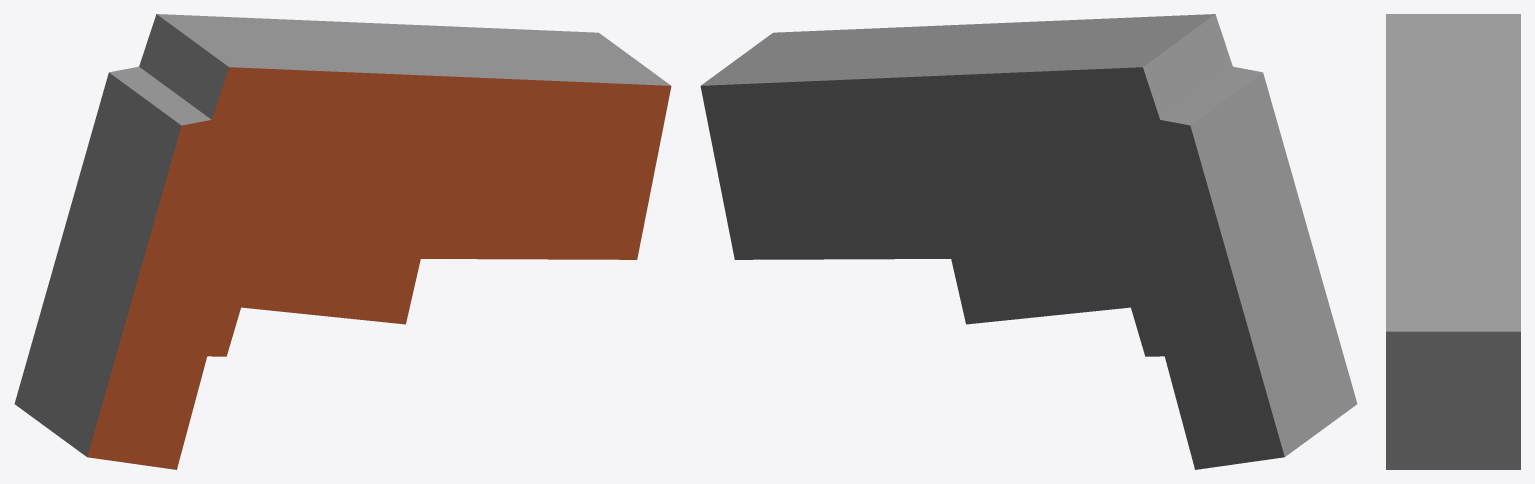
File: construction_4715_assumed_A_Casa_h6m.obj
3 views of the same model, side by side, from view 1: azimuth 30°, elevation 25°; view 2: azimuth 150°, elevation 25°; view 3: azimuth 270°, elevation 25° (orthographic). The views are drawn at different scales.
Parts seen in each view (by area): view 1: construction_4715_assumed_A_Casa; view 2: construction_4715_assumed_A_Casa; view 3: construction_4715_assumed_A_Casa.
Part boxes in pixels (left/top/right/bottom): construction_4715_assumed_A_Casa: left=14, top=14, right=671, bottom=469; construction_4715_assumed_A_Casa: left=700, top=14, right=1357, bottom=469; construction_4715_assumed_A_Casa: left=1386, top=14, right=1520, bottom=469.
Size of the model in its own units: 27.85 by 17.76 by 6.
